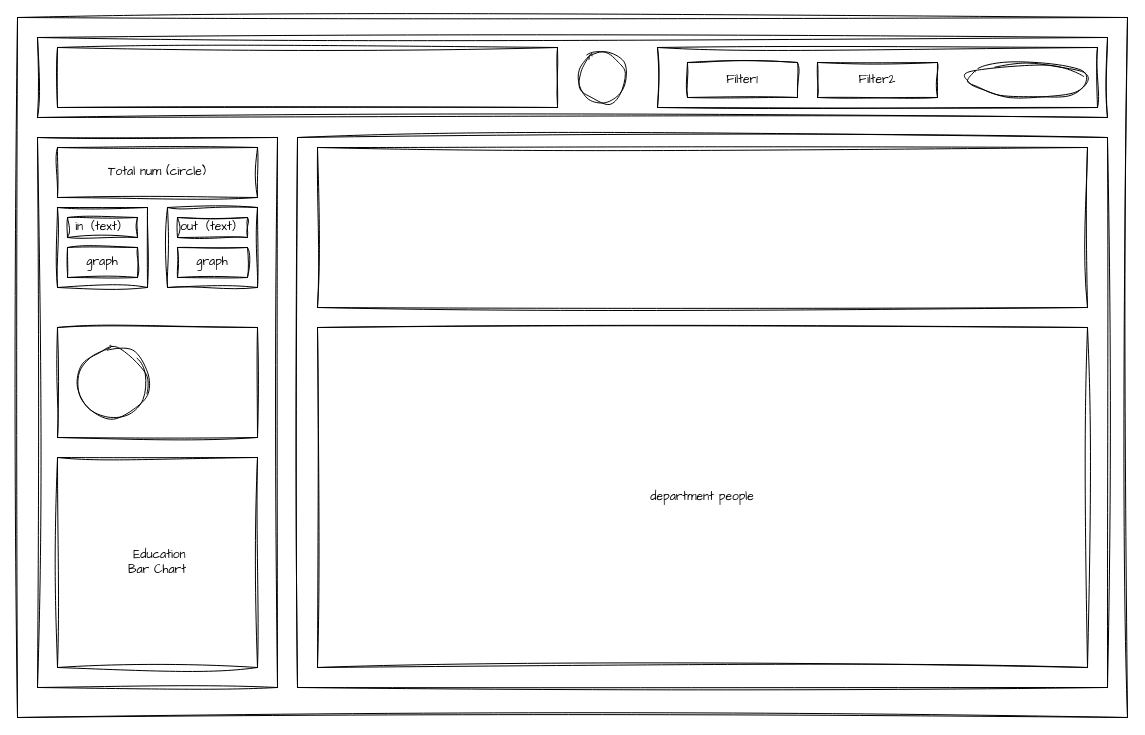
Image size: 1145x735. Some labels were removed from this diagram. The box of each missing label's shape, as (x1, y1, x2, y2) in pixels:
export: (576, 52, 628, 102)
male: (76, 346, 148, 418)
switch: (966, 62, 1088, 98)
title: (56, 46, 558, 108)
（total num) line chart: (316, 146, 1088, 308)
